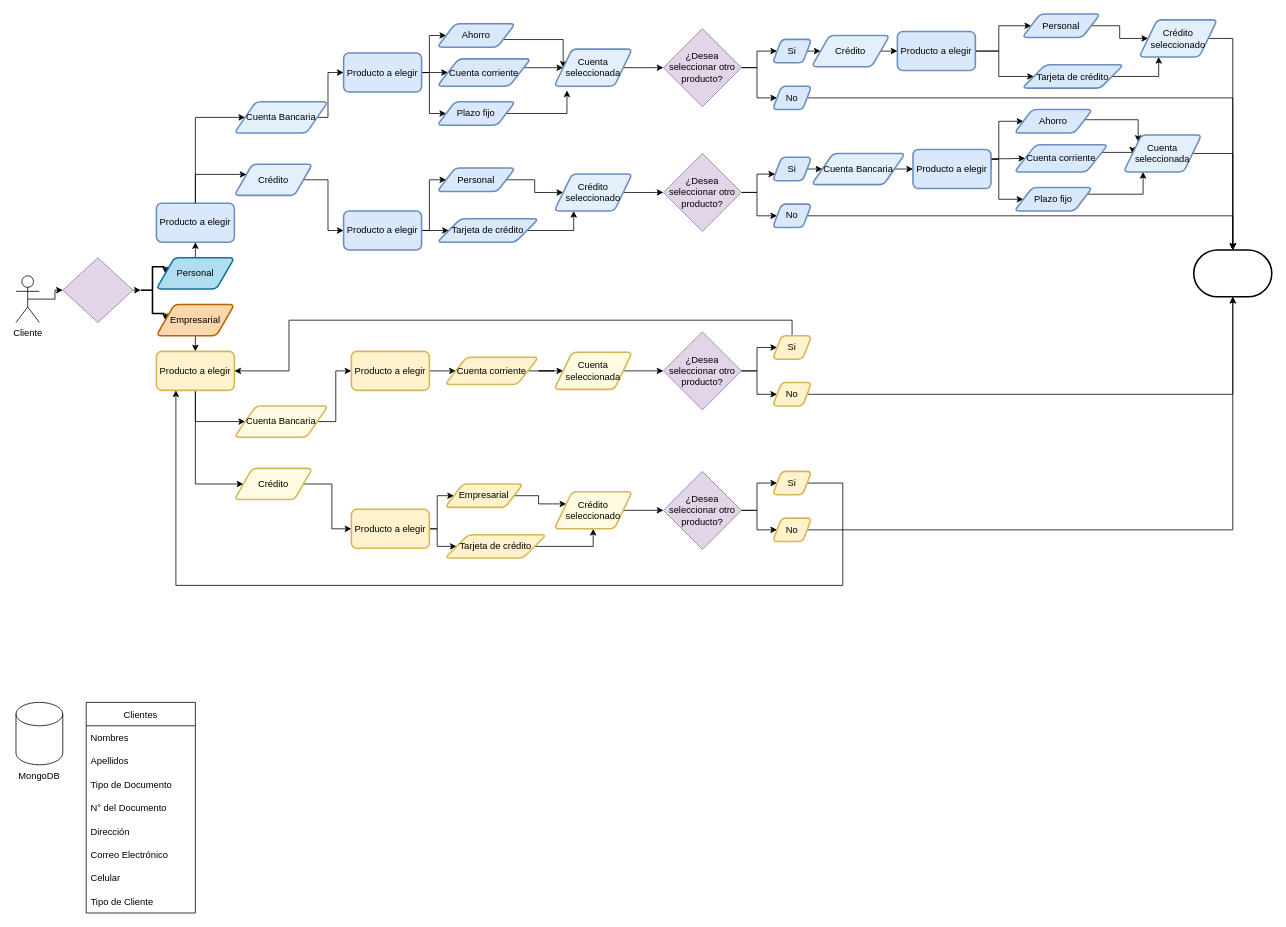
This 1286x927 diagram has some shape labels left out. The shapes that lost their labels are listed below. From the top down, each one's centre as x and y in pixels, then its label:
the point at 97,290: ¿Qué tipo de Cliente es?
the point at 1232,273: FIN
